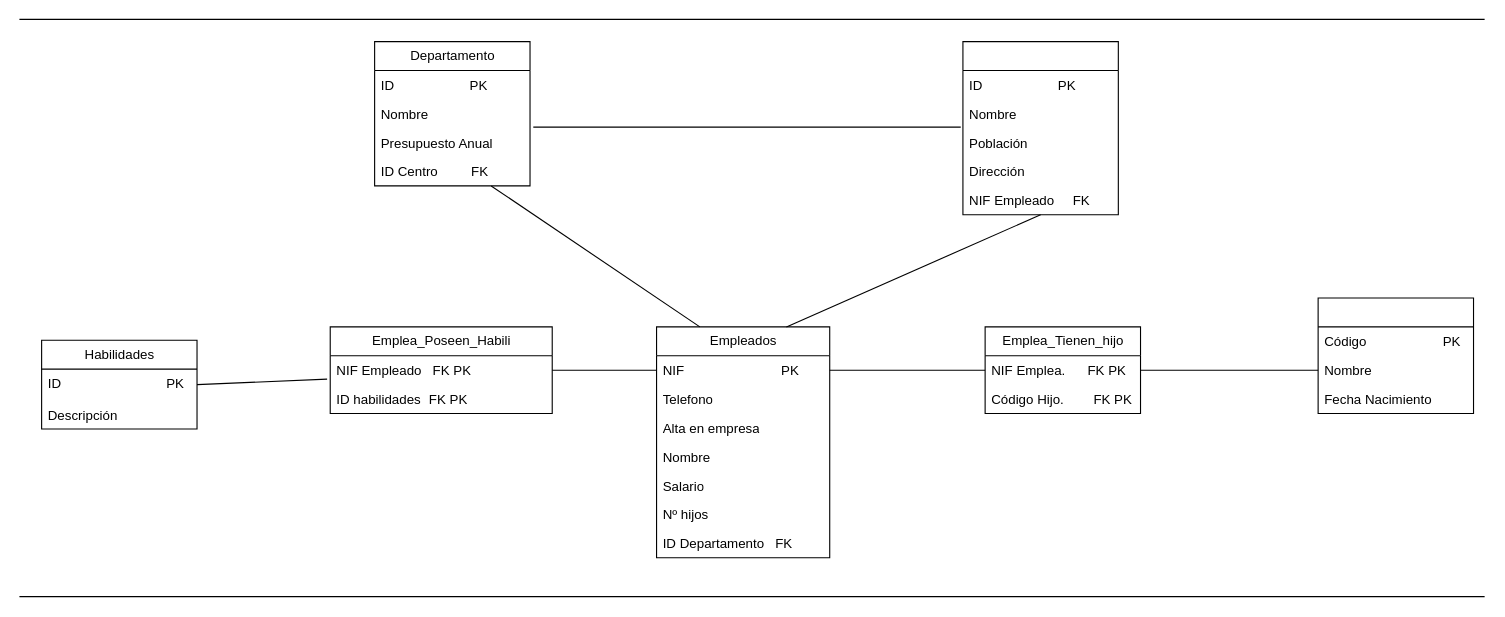
The diagram is 1505 pixels wide and 617 high, and some of its shapes have lost their labels. Here are the shapes that lost their labels. From the top down, the box of each, then its label:
(962, 41, 1118, 215): Centro Trabajo
(1317, 297, 1474, 413): Hijos
